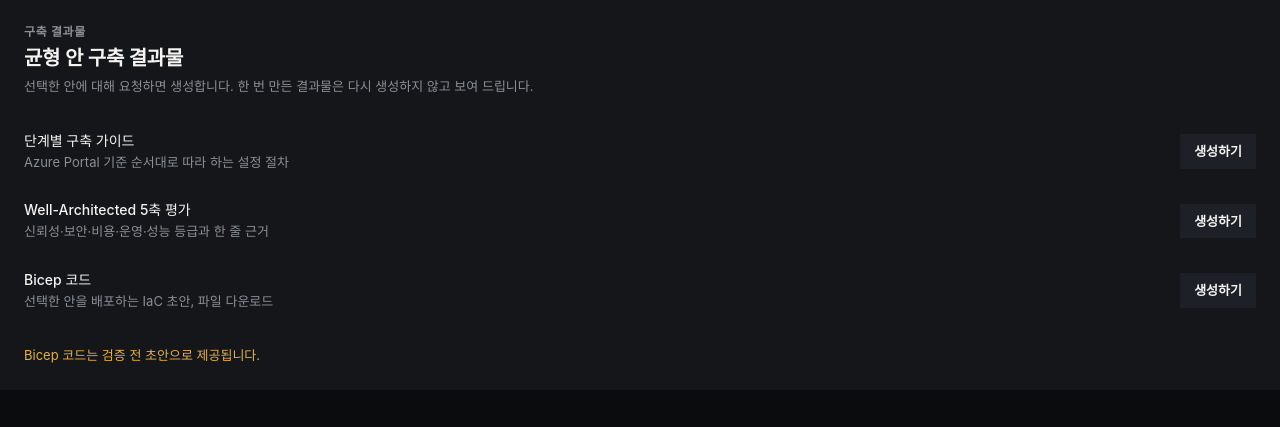
Test: ArtifactsSection › 사용자가 생성 요청하고 pending 타이머를 표시한다
Later steps or results of the test are not shown.
Click the button "생성하기" in the row of "Azure Portal 기준 순서대로 따라 하는 설정 절차".
click(1218, 152)  # box [1180, 134, 1256, 169]
Wait 1000 ms
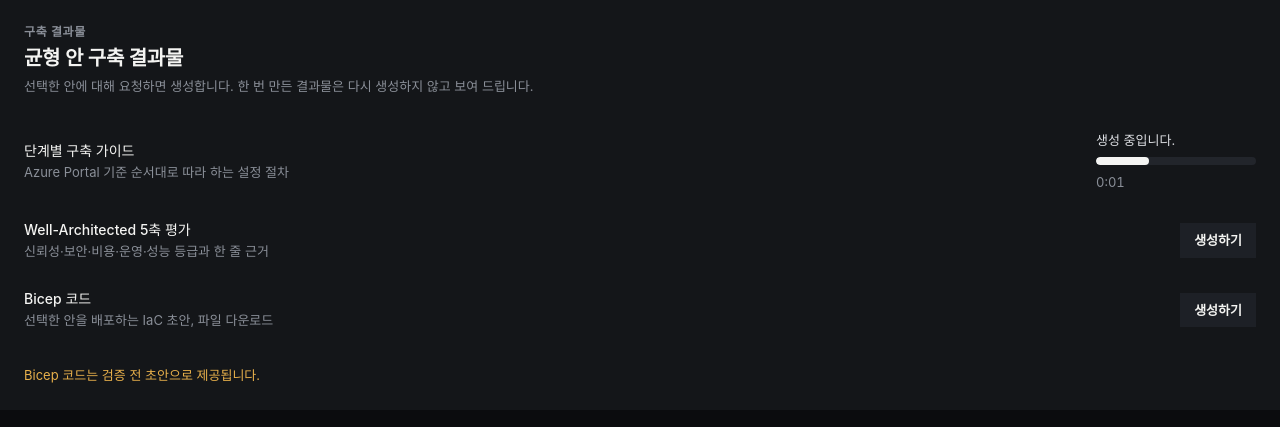
Result: the message reads "생성 중입니다." at [1096, 132, 1175, 148]
